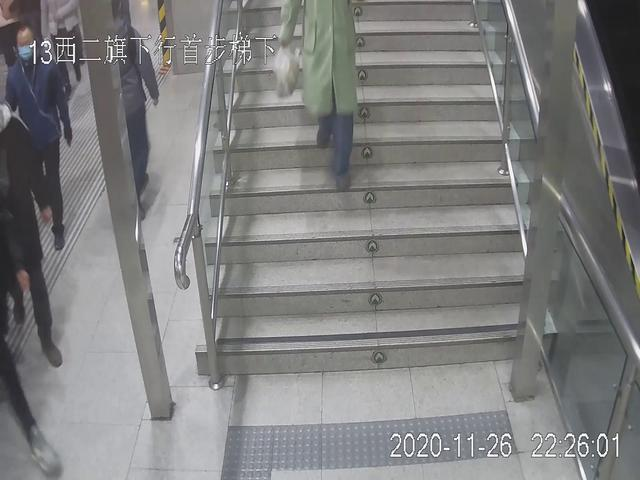person: (279, 1, 367, 198), (2, 20, 76, 253)
